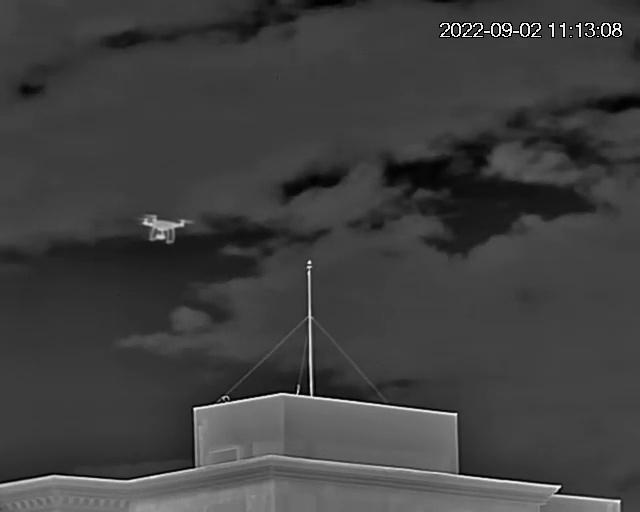DJI-Phantom: (134, 212, 199, 251)
